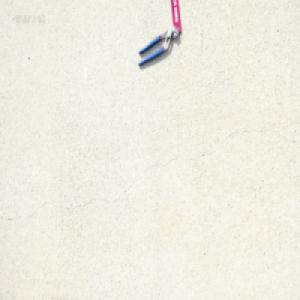Label: (170, 0, 181, 34)
Pliers: (137, 24, 179, 67)
